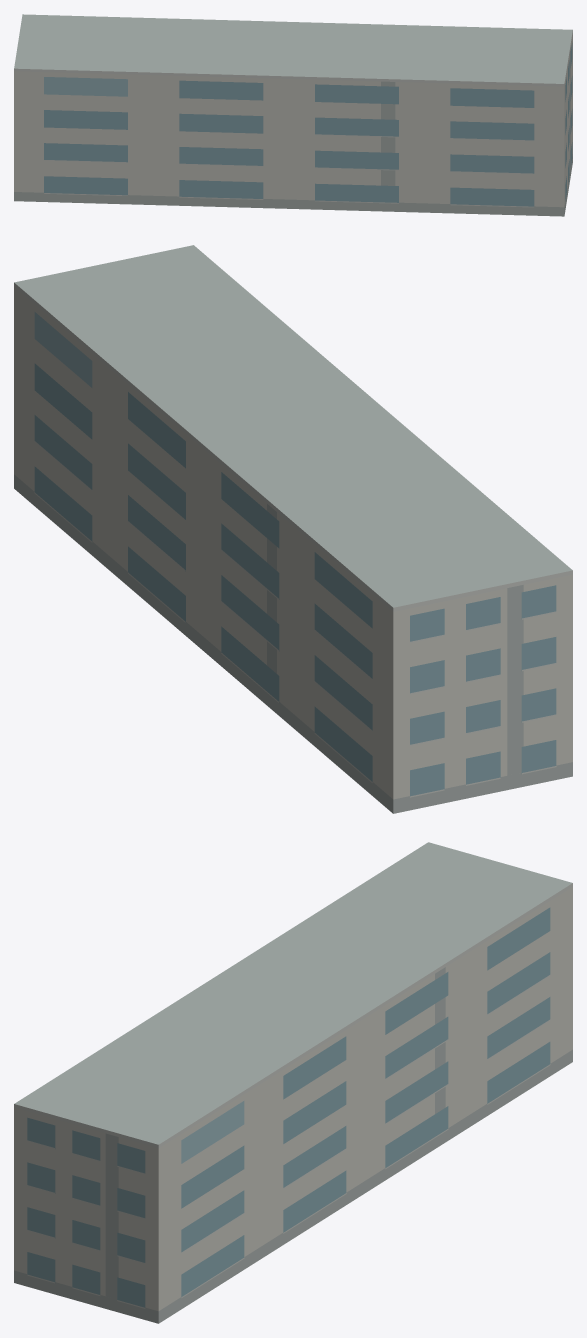
The model's file is residential-4c7faf19-a5d0-420f-8339-72031ac40448.glb.
The picture shows the model from 3 angles, top to bottom: view 1: azimuth 30°, elevation 25°; view 2: azimuth 150°, elevation 25°; view 3: azimuth 270°, elevation 25°; orthographic projection. The views are drawn at different scales.
Parts seen in each view (by area): view 1: residential-4c7faf19-a5d0-420f-8339-72031ac40448.tmp; view 2: residential-4c7faf19-a5d0-420f-8339-72031ac40448.tmp; view 3: residential-4c7faf19-a5d0-420f-8339-72031ac40448.tmp.
Part boxes in pixels (<box>): residential-4c7faf19-a5d0-420f-8339-72031ac40448.tmp: <box>14,14,572,216</box>; residential-4c7faf19-a5d0-420f-8339-72031ac40448.tmp: <box>14,245,572,813</box>; residential-4c7faf19-a5d0-420f-8339-72031ac40448.tmp: <box>14,842,572,1323</box>.
Size of the model in its own units: 44.25 by 12.2 by 34.53.
